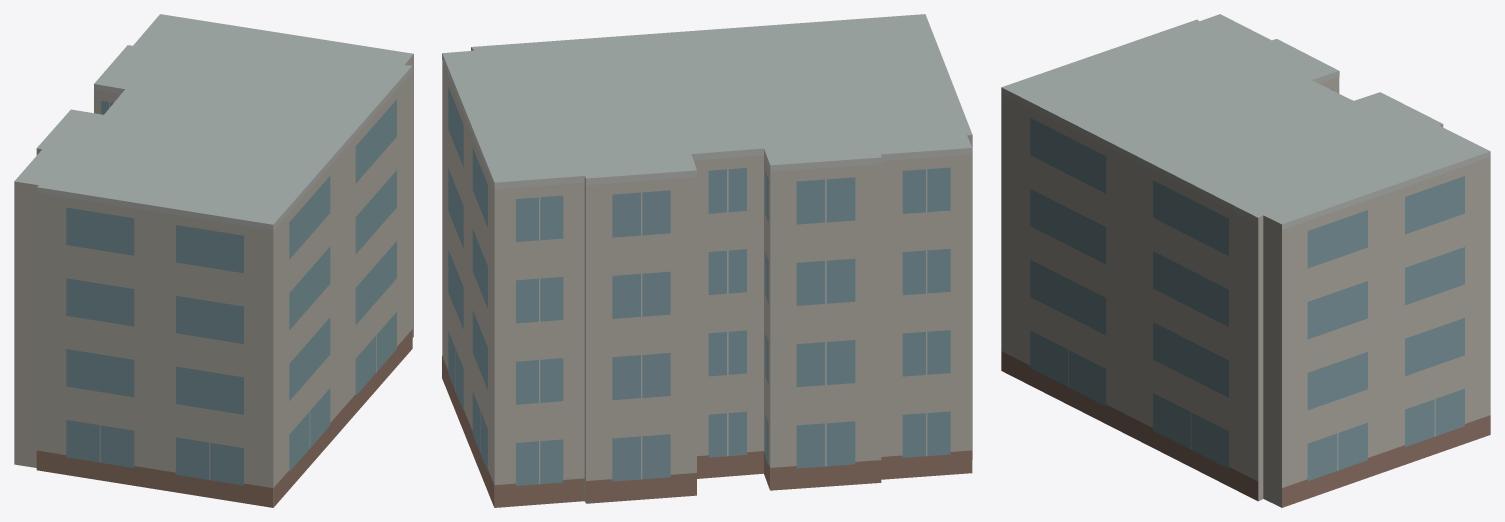
File: survey-upis-32958292.glb
3 renders of one model, left to right at view 1: azimuth 30°, elevation 25°; view 2: azimuth 150°, elevation 25°; view 3: azimuth 270°, elevation 25°, orthographic. The views are drawn at different scales.
Visible parts, largest first — view 1: survey-upis-32958292.tmp; view 2: survey-upis-32958292.tmp; view 3: survey-upis-32958292.tmp.
Boxes of the visible parts, x1,y1,x2,y2 form: survey-upis-32958292.tmp: (14,14,413,507); survey-upis-32958292.tmp: (442,14,972,507); survey-upis-32958292.tmp: (1001,14,1490,507).
Bounding box in the file's own units: 18.99 × 11.93 × 18.66.
